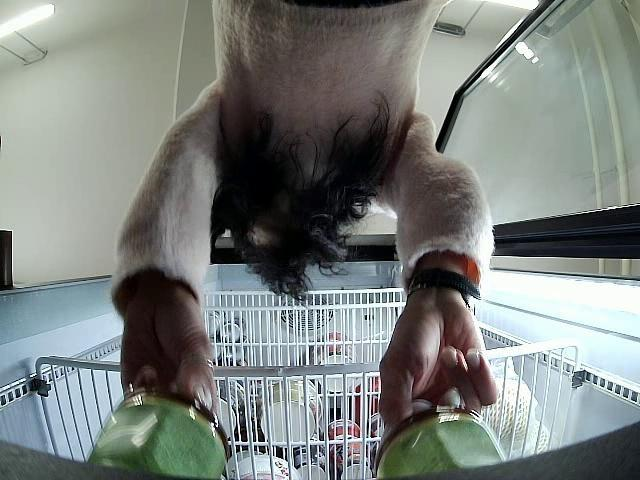19_17cha: (92, 392, 230, 480), (371, 396, 508, 480)
